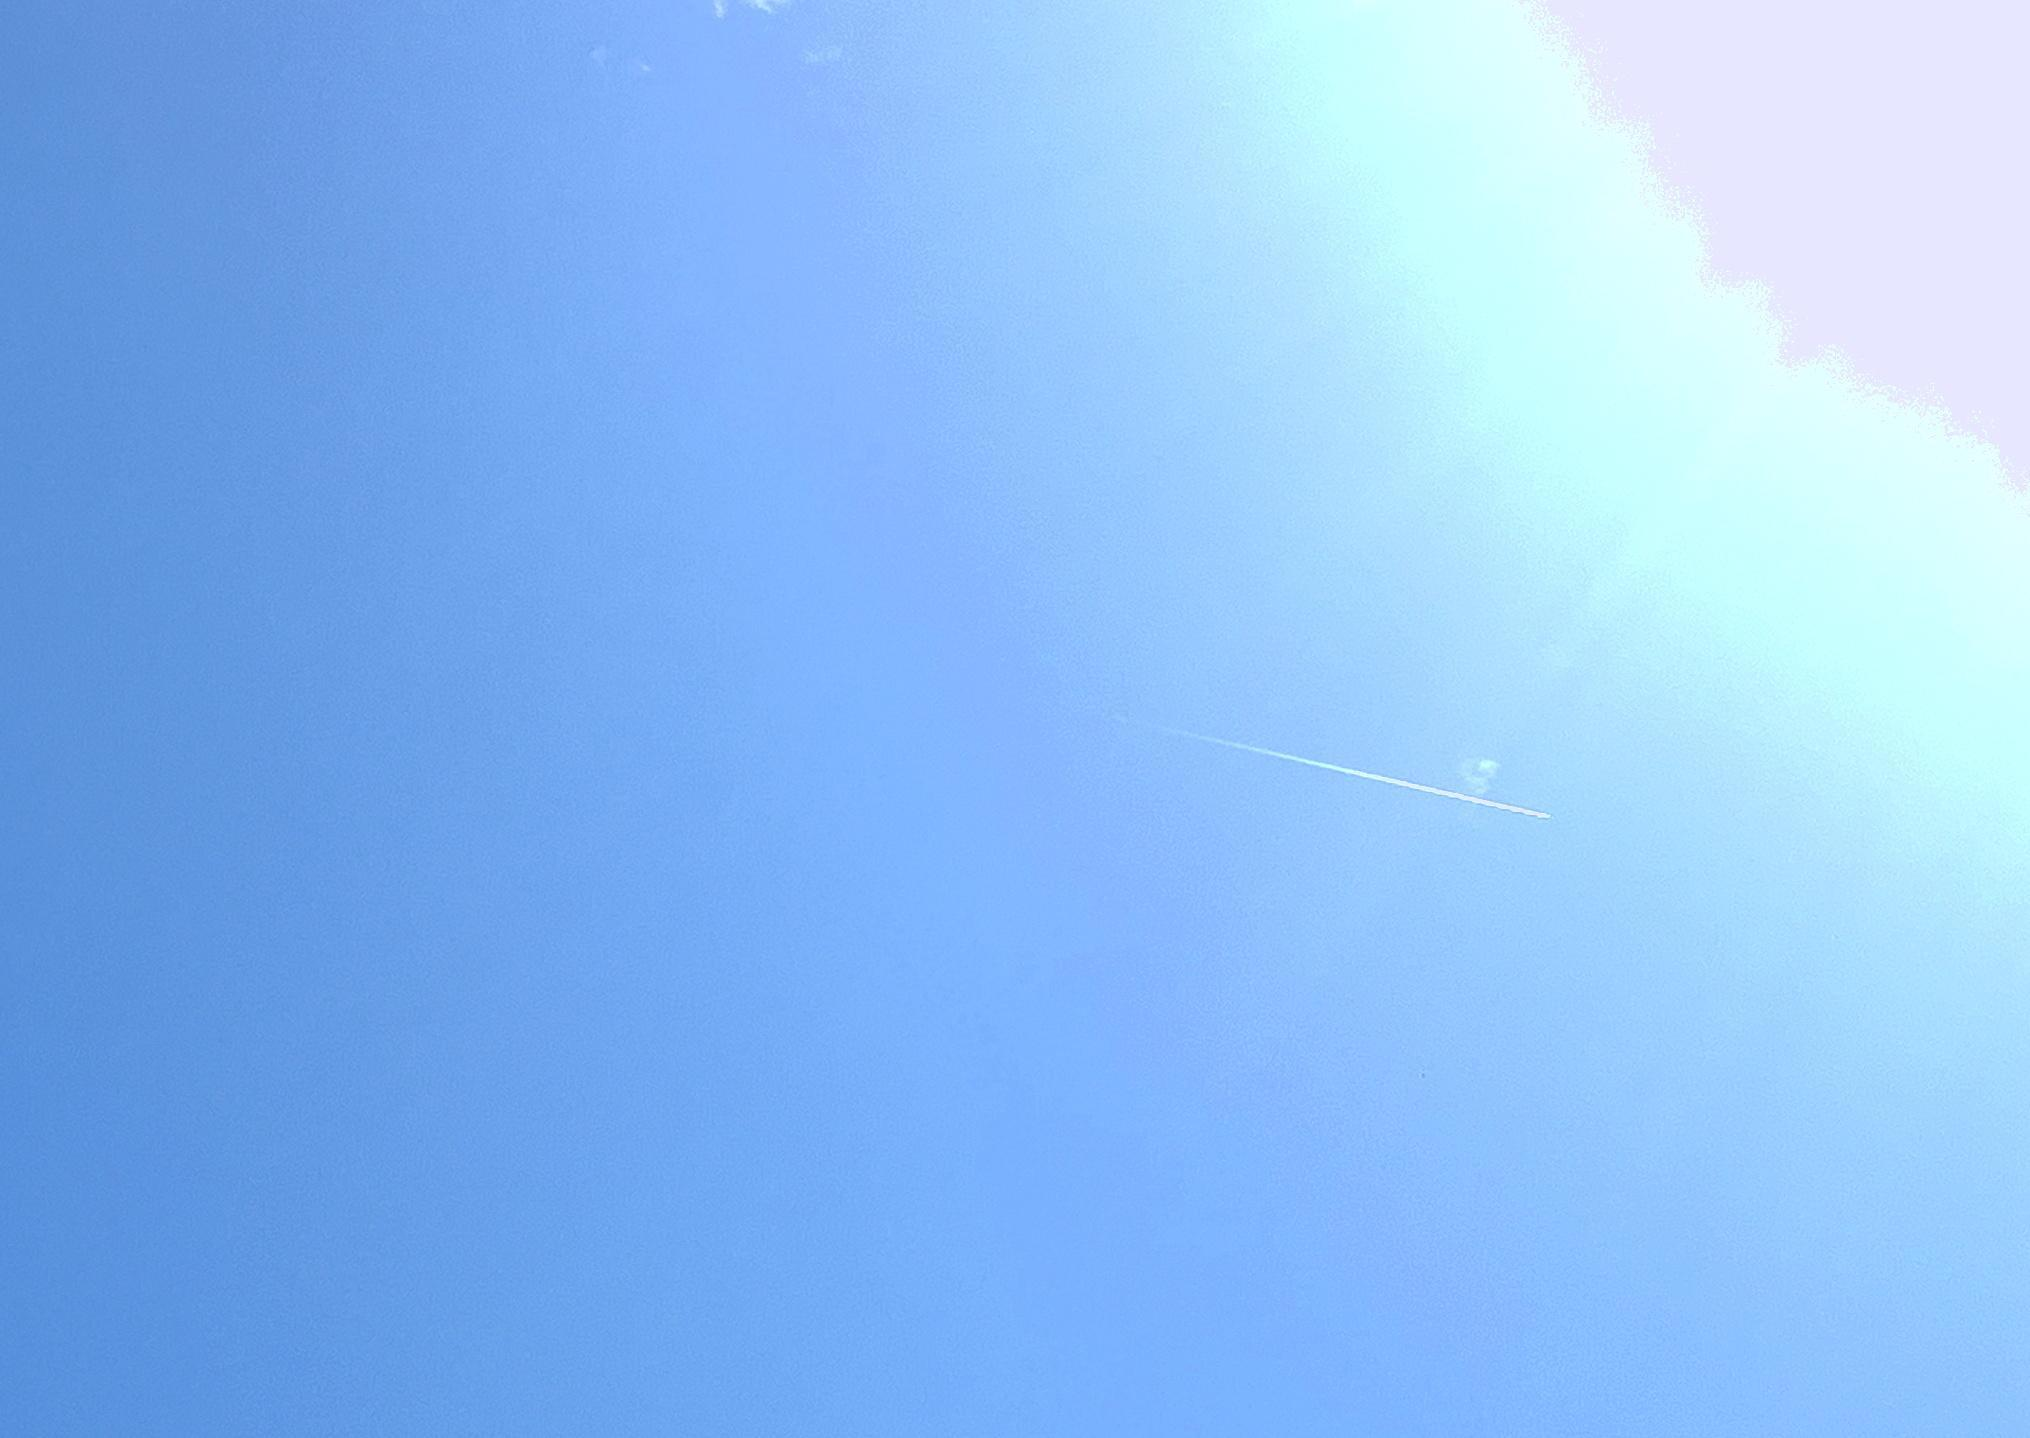Plane: (1181, 721, 1574, 833)
